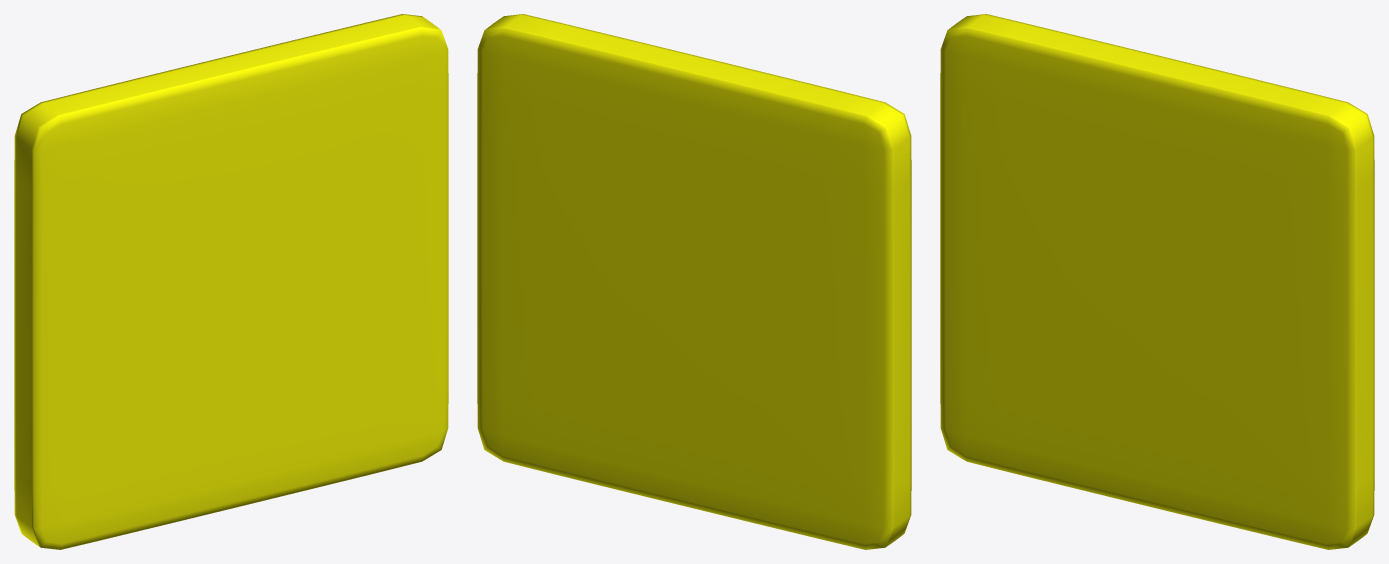
The picture shows the model from 3 angles, left to right: view 1: azimuth 30°, elevation 25°; view 2: azimuth 150°, elevation 25°; view 3: azimuth 330°, elevation 25°; orthographic projection.
Visible parts, largest first — view 1: polySurface1037; view 2: polySurface1037; view 3: polySurface1037.
Boxes of the visible parts, box(x1,y1,x2,y2) form: polySurface1037: box(14, 14, 448, 549); polySurface1037: box(477, 14, 911, 549); polySurface1037: box(940, 14, 1374, 549).
Bounding box in the file's own units: 0.9994 × 0.9994 × 0.0994.
